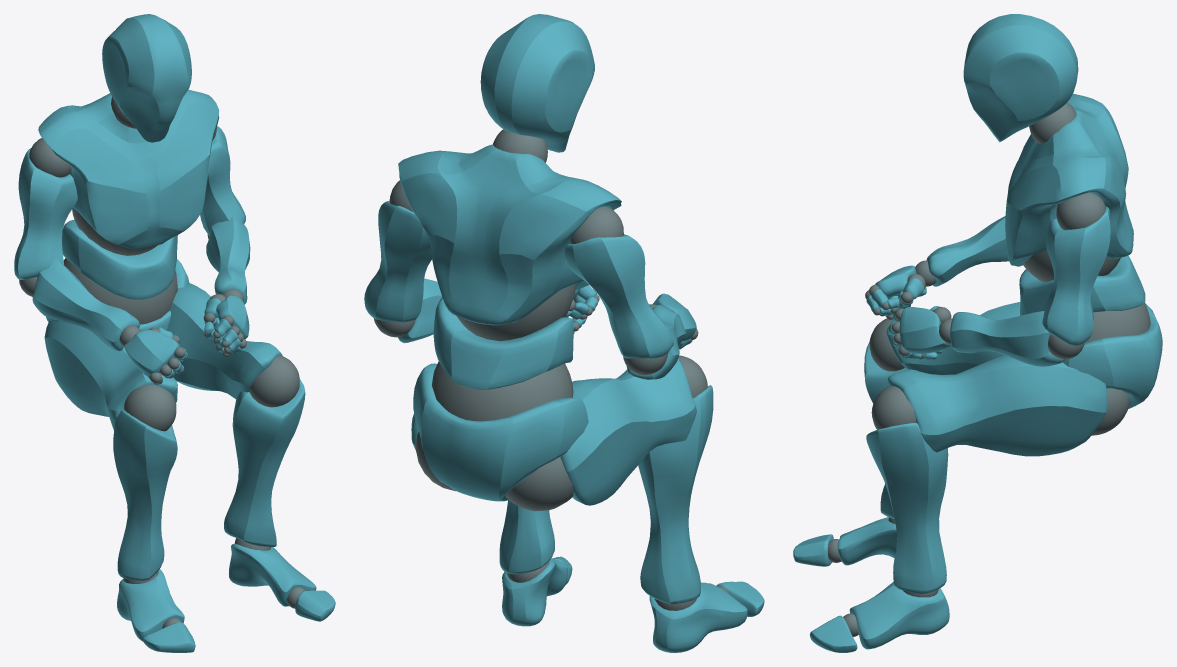
Rendered from _Yhuman.fbx.
The picture shows the model from 3 angles, left to right: view 1: azimuth 30°, elevation 25°; view 2: azimuth 150°, elevation 25°; view 3: azimuth 270°, elevation 25°; orthographic projection. The views are drawn at different scales.
Visible parts, largest first — view 1: Alpha_Surface; view 2: Alpha_Surface; view 3: Alpha_Surface.
Part boxes in pixels (box(x1,y1,x2,y2)): Alpha_Surface: box(14, 14, 335, 652); Alpha_Surface: box(364, 14, 764, 652); Alpha_Surface: box(793, 14, 1162, 652).
Bounding box in the file's own units: 89.51 × 195 × 111.
